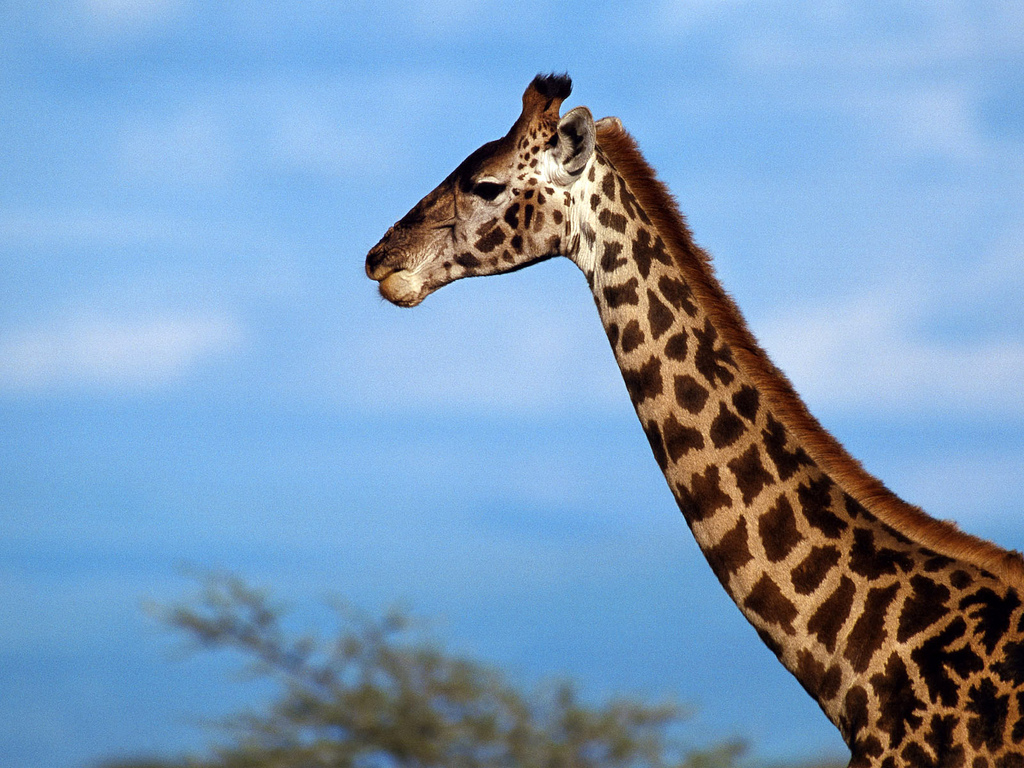giraffe: (349, 65, 995, 740)
